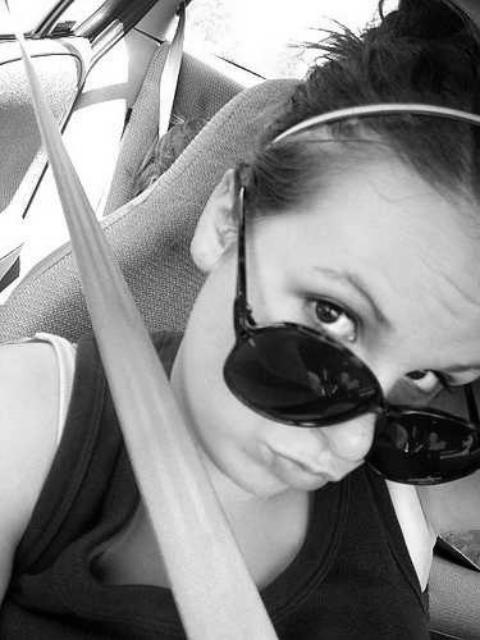SafeDriving: (294, 282, 372, 346)
Seatbelt: (0, 0, 284, 640)
